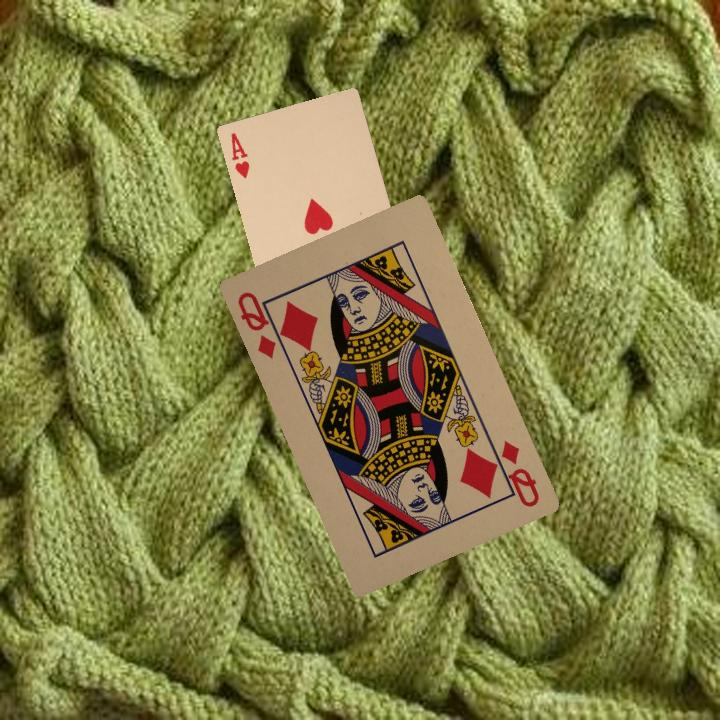Ah: (227, 129, 252, 181)
Qd: (486, 436, 542, 510), (233, 287, 289, 361)
